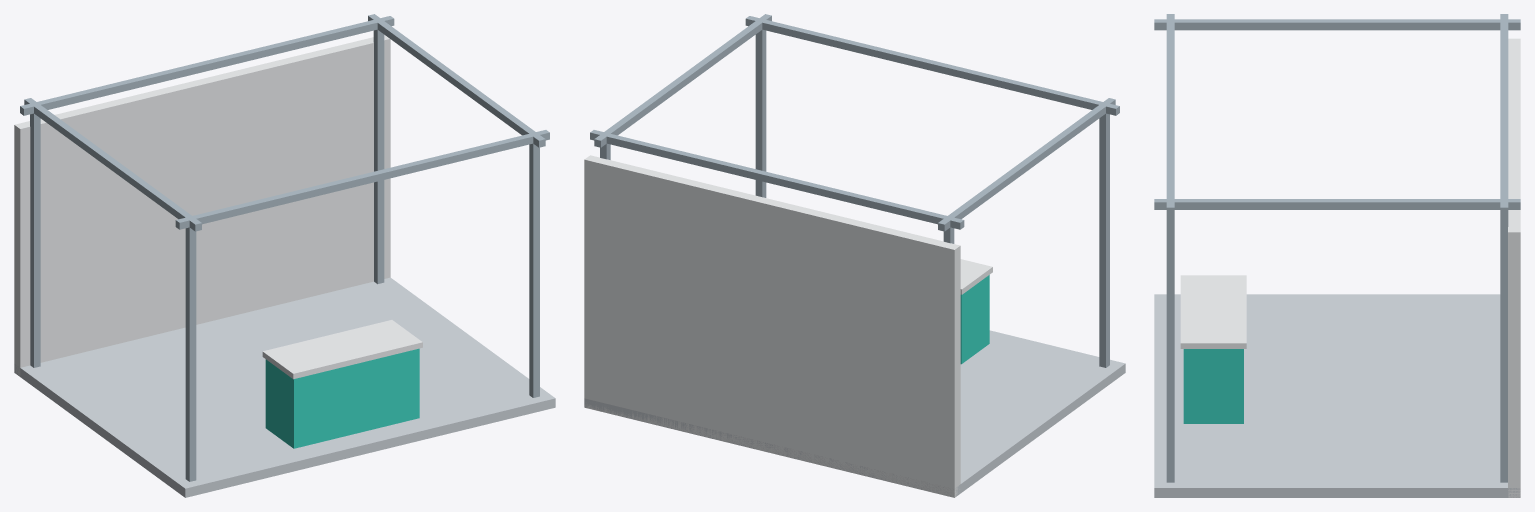
3 views of the same model, side by side, from view 1: azimuth 30°, elevation 25°; view 2: azimuth 150°, elevation 25°; view 3: azimuth 270°, elevation 25° (orthographic). The views are drawn at different scales.
Parts seen in each view (by area): view 1: Exhibition Booth Concept; view 2: Exhibition Booth Concept; view 3: Exhibition Booth Concept.
Boxes of the visible parts, x1,y1,x2,y2 form: Exhibition Booth Concept: (14,14,555,497); Exhibition Booth Concept: (584,14,1125,497); Exhibition Booth Concept: (1154,14,1520,497).
Size of the model in its own units: 5 by 3.49 by 4.
